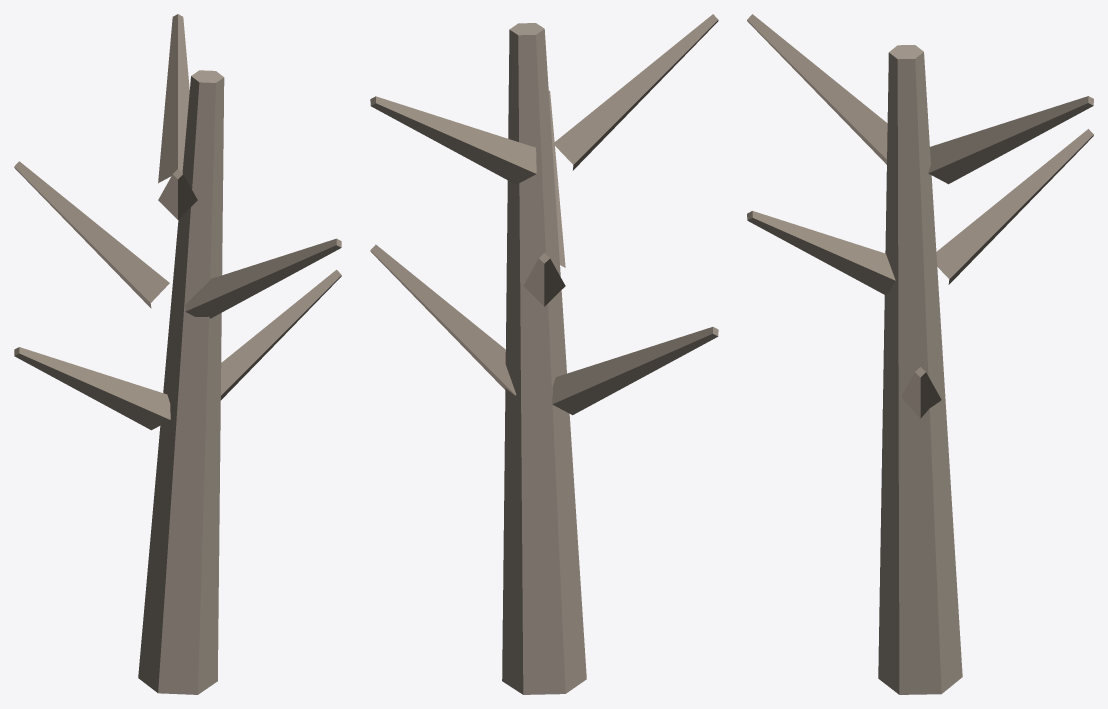
Rendered from deadtree_v03.glb.
The picture shows the model from 3 angles, left to right: view 1: azimuth 30°, elevation 25°; view 2: azimuth 150°, elevation 25°; view 3: azimuth 270°, elevation 25°; orthographic projection. The views are drawn at different scales.
Visible parts, largest first — view 1: lod0; view 2: lod0; view 3: lod0.
Part boxes in pixels (x1,y1,x2,y2): lod0: [14, 14, 341, 694]; lod0: [370, 14, 718, 694]; lod0: [747, 14, 1093, 694].
Size of what is drawn, in the model's own units: 2.67 by 4.72 by 2.32.
